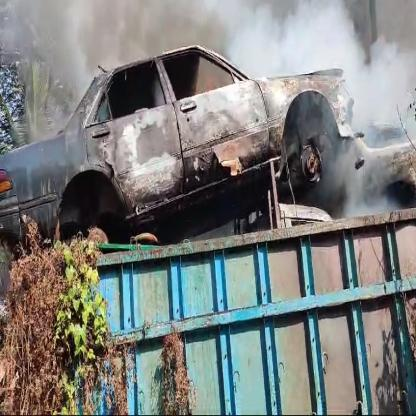Smoke: (0, 0, 416, 86), (274, 91, 416, 212)
